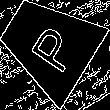P_NW: (19, 15, 78, 74)
